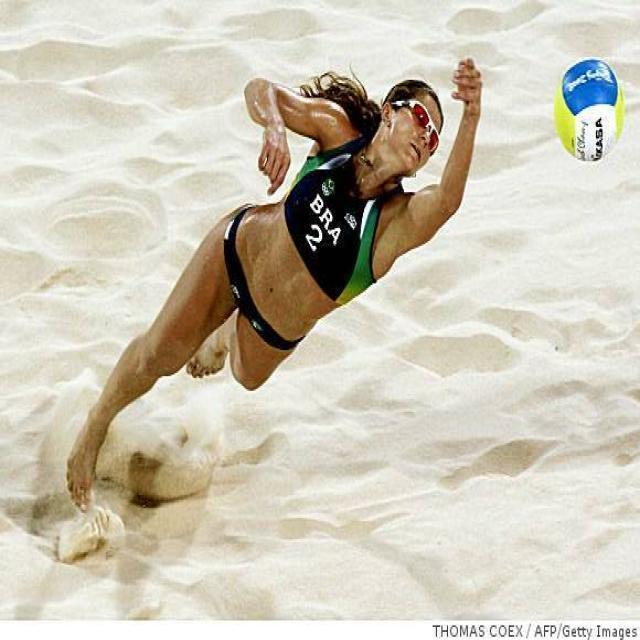volleyball: (553, 60, 625, 161)
